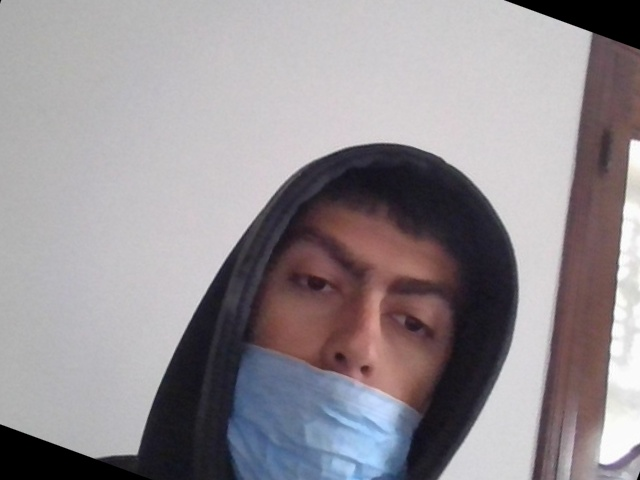mask_weared_incorrect: (208, 162, 461, 480)
